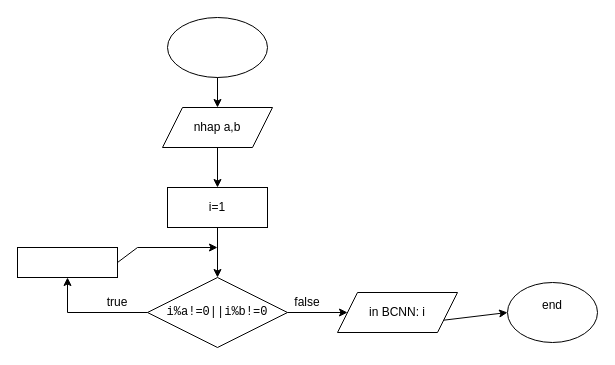
The diagram is 615 pixels wide and 365 high, and some of its shapes have lost their labels. Each missing label, with the centre of its shape:
"begin" goes at (x=217, y=47).
"i++" goes at (x=67, y=262).
